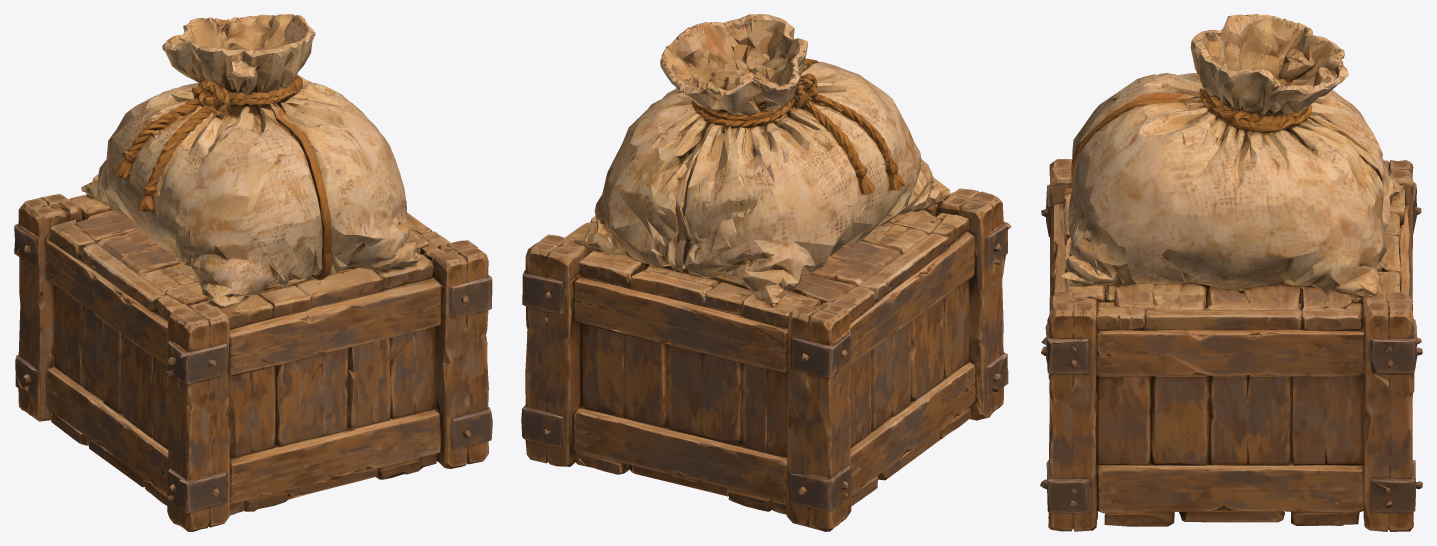
Rendered from crate.glb.
The picture shows the model from 3 angles, left to right: view 1: azimuth 30°, elevation 25°; view 2: azimuth 150°, elevation 25°; view 3: azimuth 270°, elevation 25°; orthographic projection. The views are drawn at different scales.
Size of the model in its own units: 1.59 by 1.89 by 1.56.
1 material, 1 textured.
